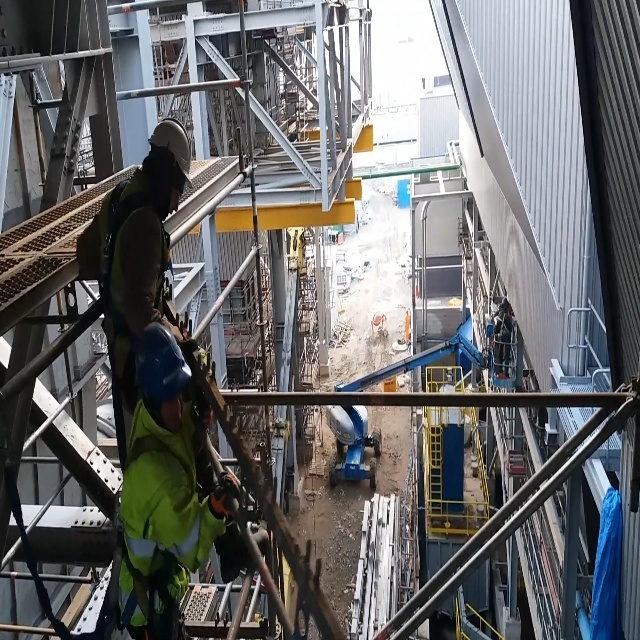Arnes_seguridad: (109, 416, 198, 613), (95, 173, 171, 373)
